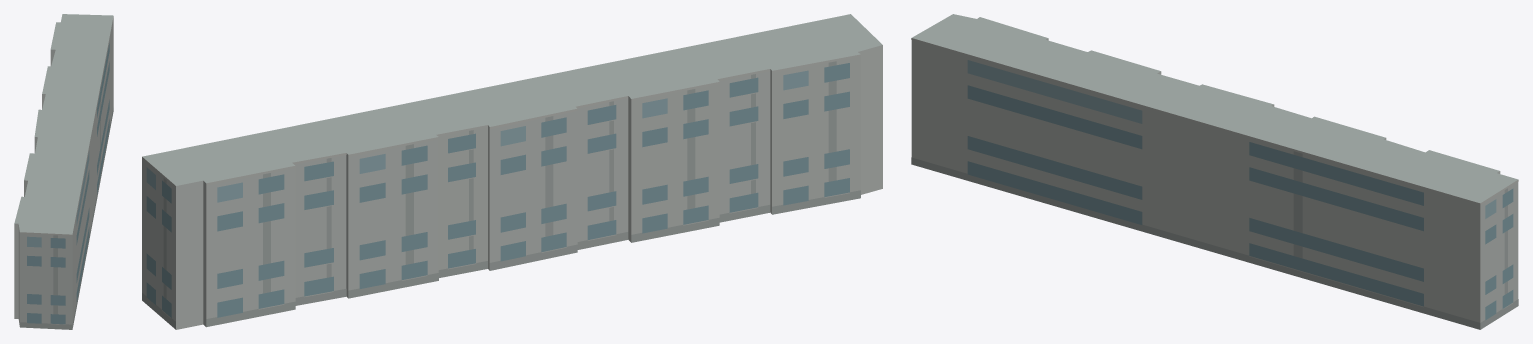
Rendered from survey-upis-32591059.glb.
The picture shows the model from 3 angles, left to right: view 1: azimuth 30°, elevation 25°; view 2: azimuth 150°, elevation 25°; view 3: azimuth 270°, elevation 25°; orthographic projection. The views are drawn at different scales.
Parts seen in each view (by area): view 1: survey-upis-32591059.tmp; view 2: survey-upis-32591059.tmp; view 3: survey-upis-32591059.tmp.
Boxes of the visible parts, x1=… form: survey-upis-32591059.tmp: x1=14, y1=14, x2=113, y2=329; survey-upis-32591059.tmp: x1=142, y1=14, x2=882, y2=329; survey-upis-32591059.tmp: x1=911, y1=14, x2=1518, y2=329.
Size of the model in its own units: 48.94 by 15.25 by 66.29.
